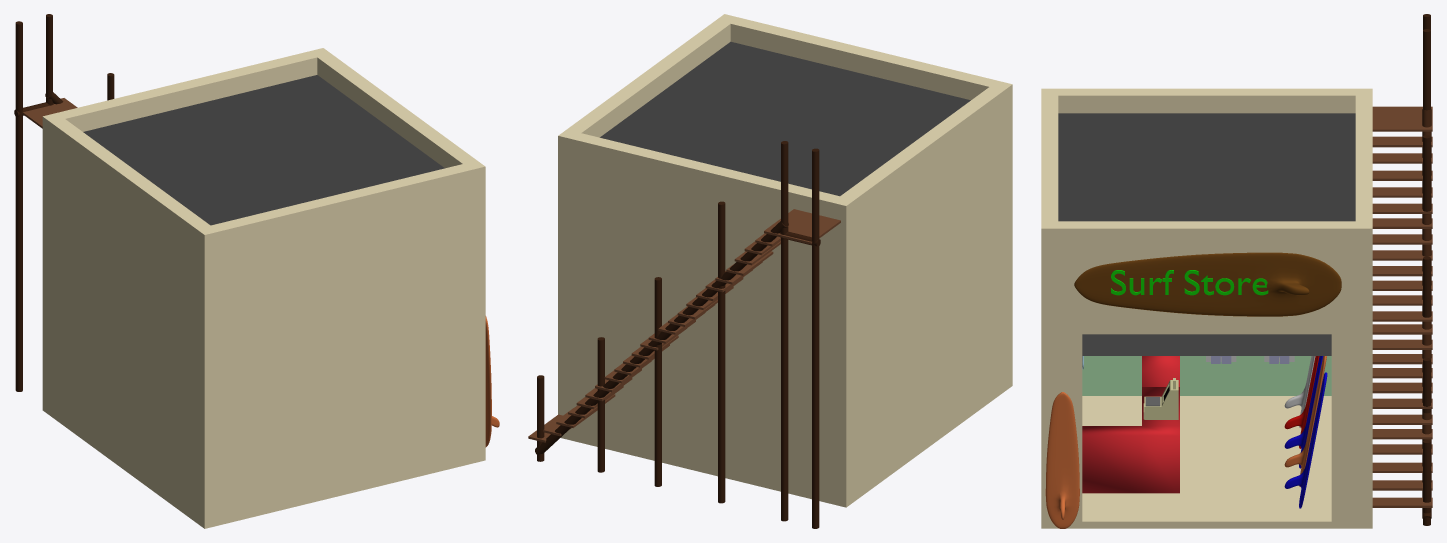
Rendered from SurfHaus.fbx.
3 renders of one model, left to right at view 1: azimuth 30°, elevation 25°; view 2: azimuth 150°, elevation 25°; view 3: azimuth 270°, elevation 25°, orthographic. The views are drawn at different scales.
Parts seen in each view (by area): view 1: Strandhaus, TreppenGerüst, Surfbrett, Treppe; view 2: Strandhaus, TreppenGerüst, Treppe; view 3: Strandhaus, Treppe, Surfbrett.006, Tresen, GaragenTor, TreppenGerüst, Surfbrett, Text, Kasse.001, Surfbrett.001, Surfbrett.002, Surfbrett.003 (+2 smaller).
Boxes of the visible parts, box(x1,y1,x2,y2) form: Strandhaus: box(42, 48, 485, 528); TreppenGerüst: box(14, 14, 114, 391); Surfbrett: box(485, 316, 499, 447); Treppe: box(23, 98, 77, 128); Strandhaus: box(558, 14, 1012, 507); TreppenGerüst: box(535, 141, 820, 528); Treppe: box(528, 209, 840, 442); Strandhaus: box(1041, 88, 1372, 528); Treppe: box(1372, 106, 1432, 507); Surfbrett.006: box(1074, 252, 1341, 316); Tresen: box(1082, 356, 1179, 493); GaragenTor: box(1082, 334, 1331, 355); TreppenGerüst: box(1422, 14, 1431, 525); Surfbrett: box(1045, 392, 1079, 528); Text: box(1111, 270, 1268, 295); Kasse.001: box(1143, 378, 1178, 419); Surfbrett.001: box(1284, 372, 1327, 508); Surfbrett.002: box(1284, 356, 1326, 486); Surfbrett.003: box(1284, 356, 1323, 468).
Size of the model in its own units: 218 by 250 by 236.
